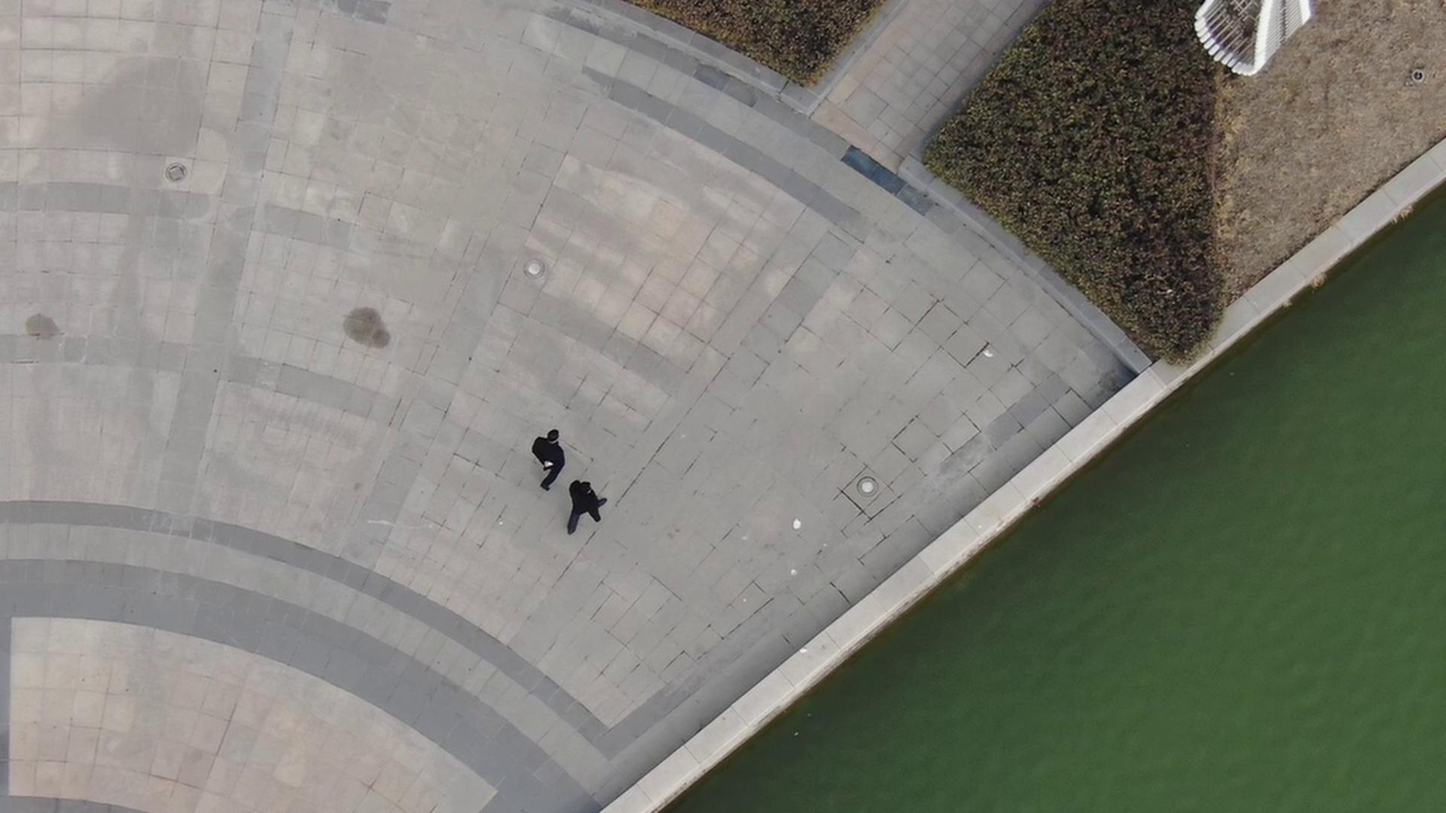human: (557, 458, 606, 535), (521, 420, 561, 494)
